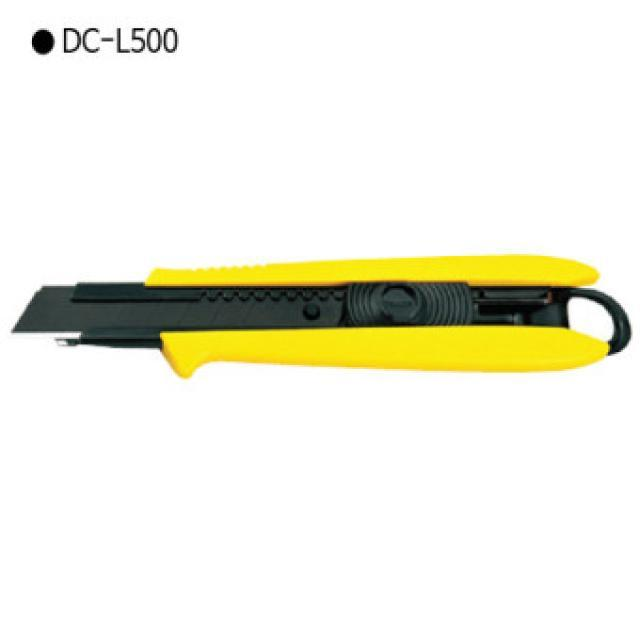cutter: (3, 246, 638, 392)
